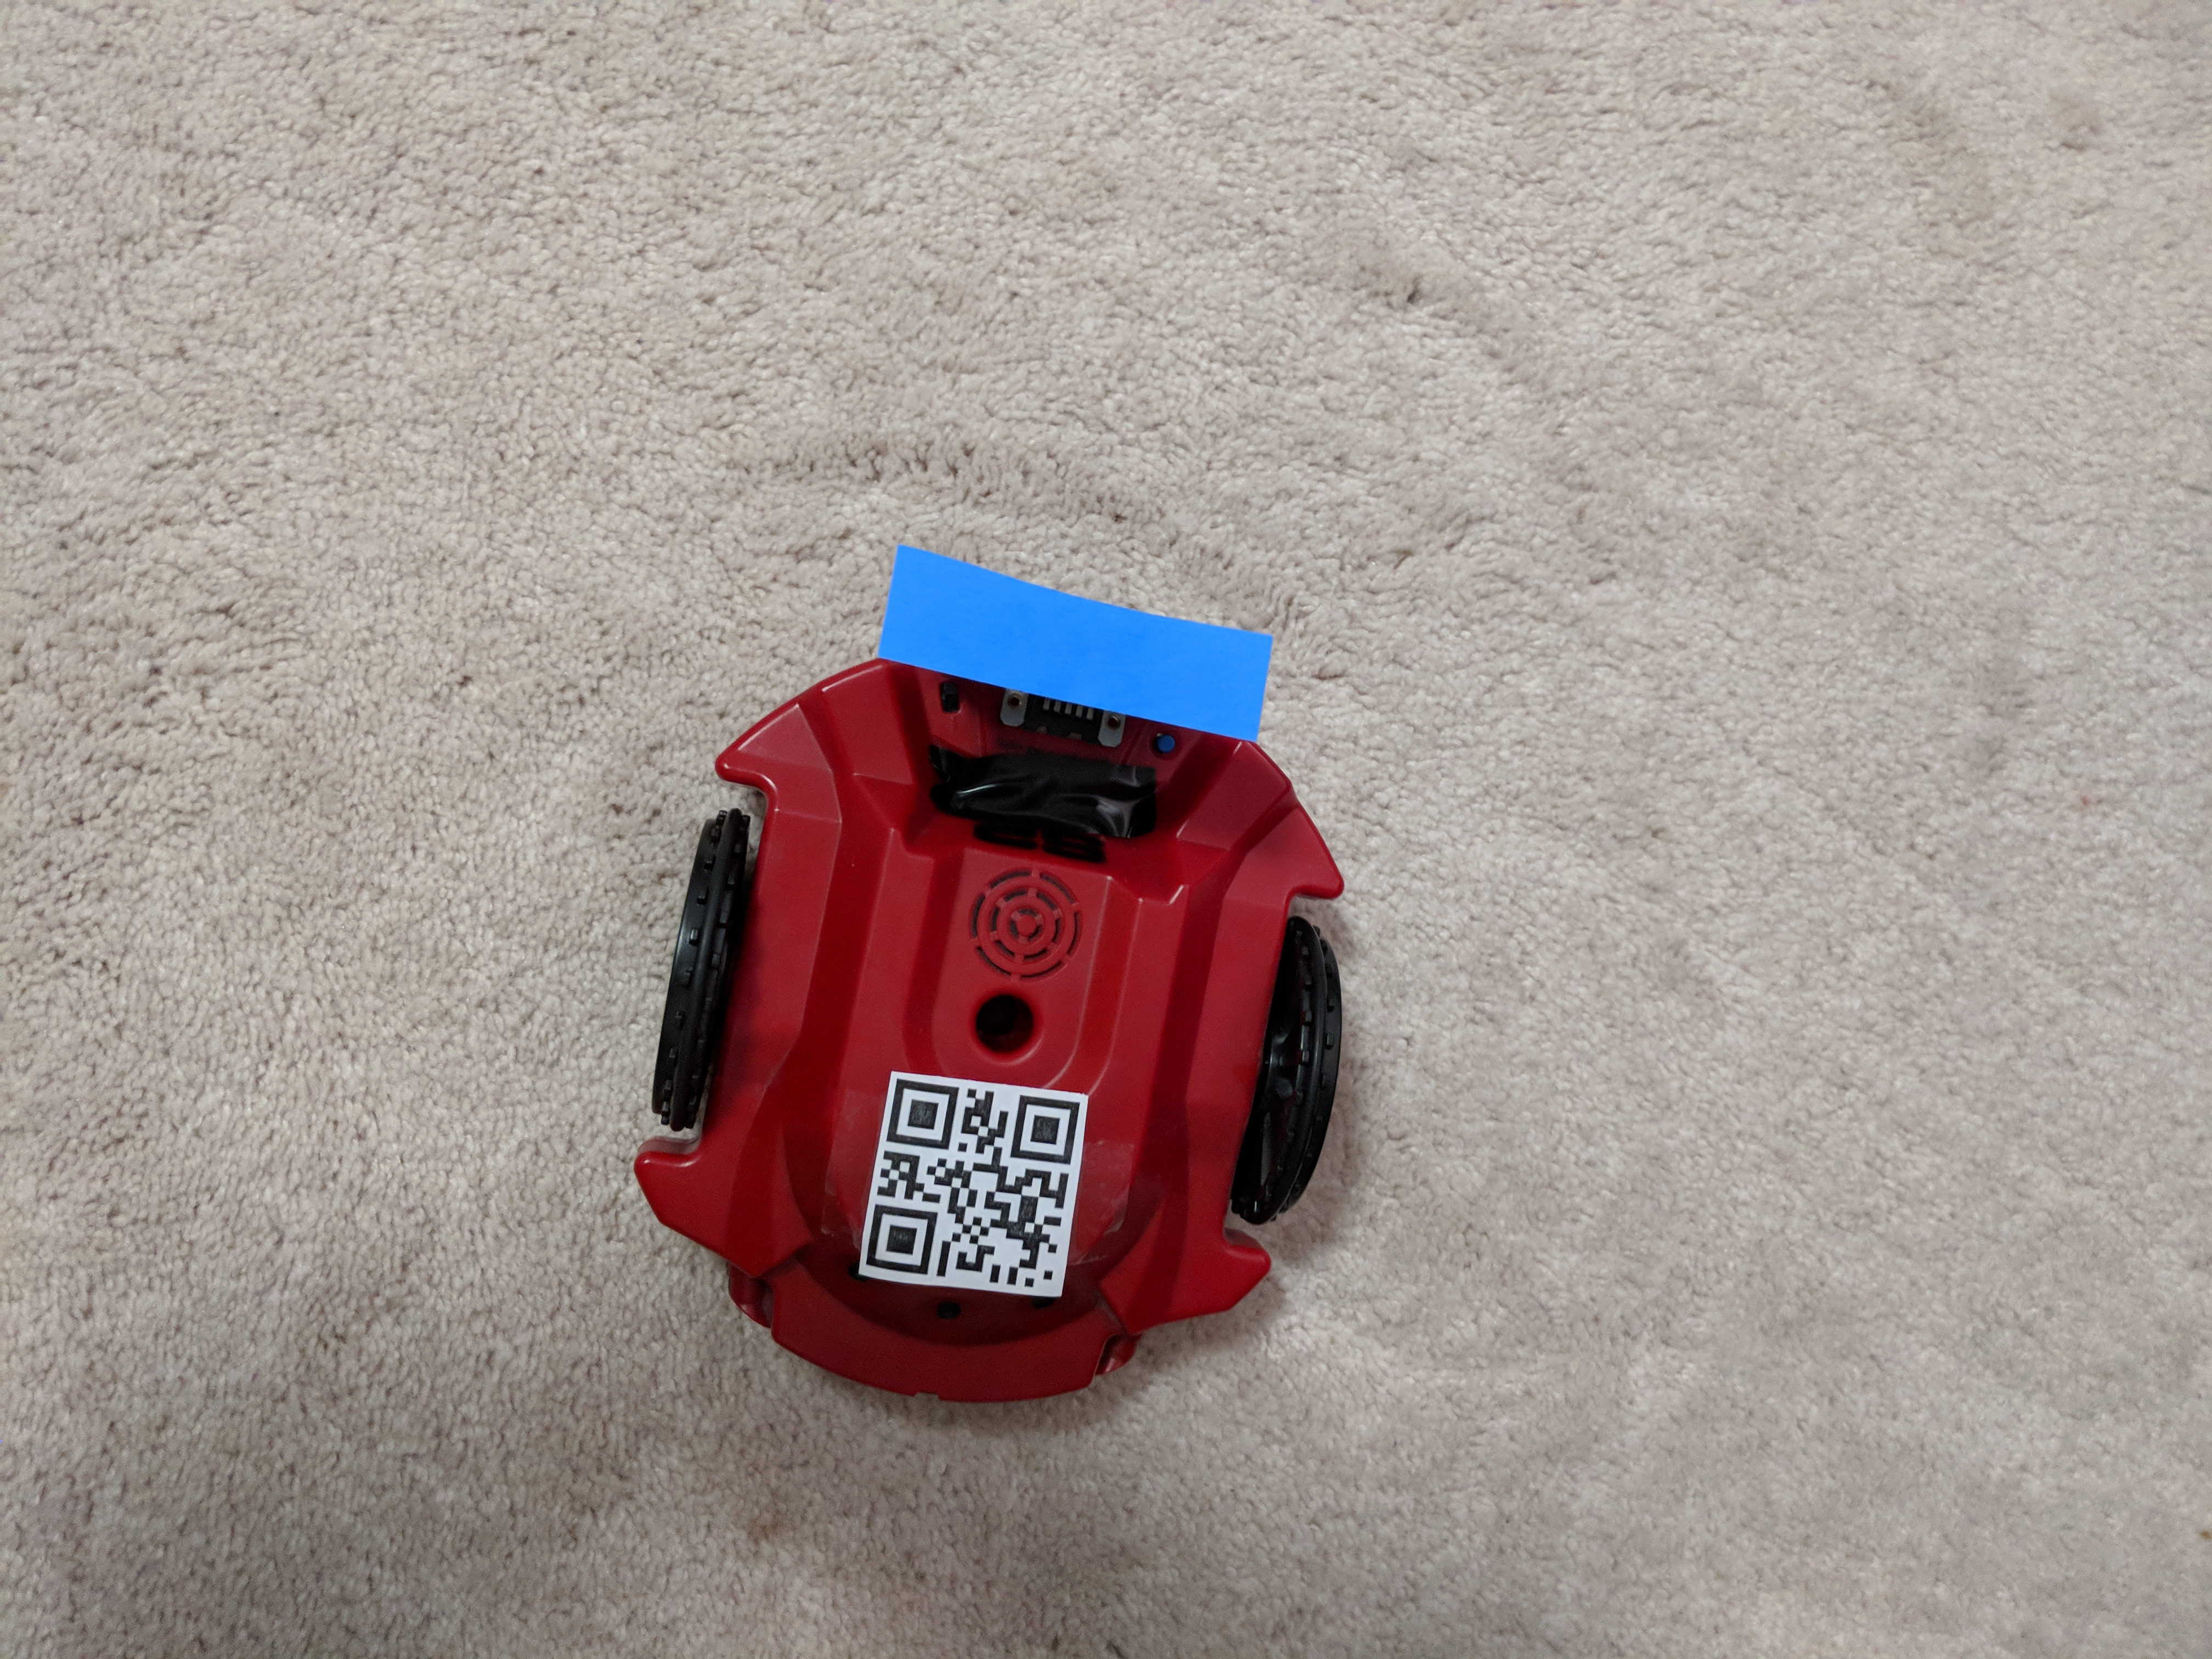chassis: (624, 545, 1362, 1450)
qr: (852, 1058, 1073, 1307)
